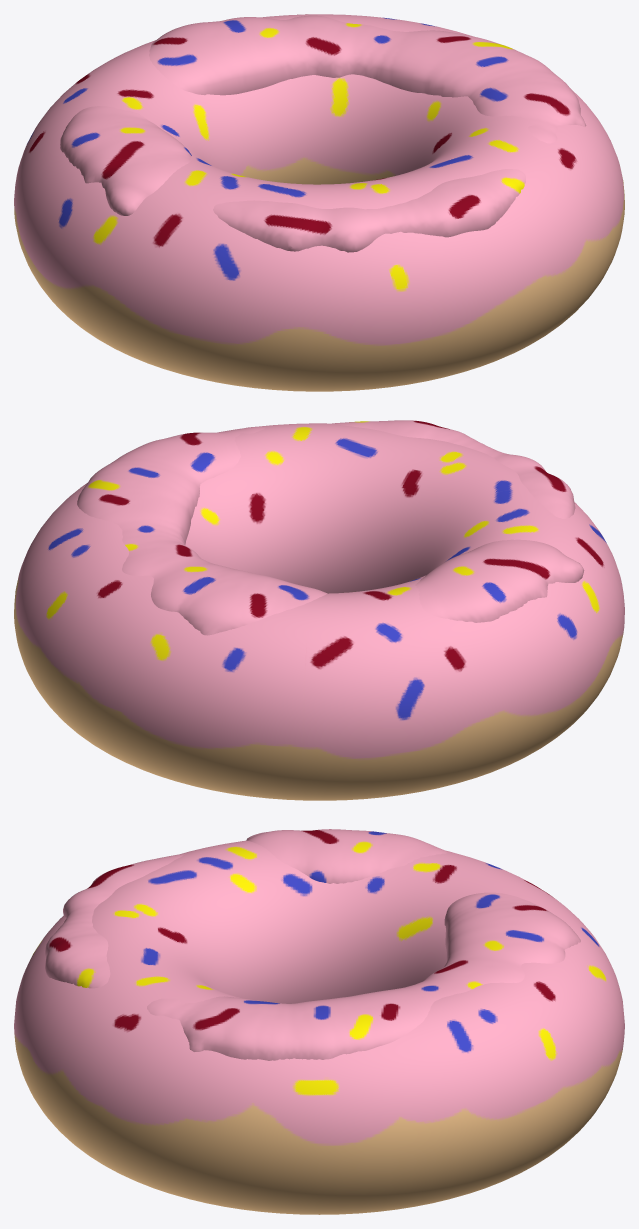
Rendered from donut.glb.
3 views of the same model, one above another, from view 1: azimuth 30°, elevation 25°; view 2: azimuth 150°, elevation 25°; view 3: azimuth 270°, elevation 25° (orthographic).
Parts seen in each view (by area): view 1: mesh_id33, mesh_id44; view 2: mesh_id33, mesh_id44; view 3: mesh_id33, mesh_id44.
Boxes of the visible parts, x1,y1,x2,y2 form: mesh_id33: (14,14,624,391); mesh_id44: (60,15,586,252); mesh_id33: (14,423,624,800); mesh_id44: (77,420,584,635); mesh_id33: (14,840,624,1214); mesh_id44: (44,829,580,1060).
Size of the model in its own units: 0.2456 by 0.0858 by 0.2448.
2 materials, 2 textured.
